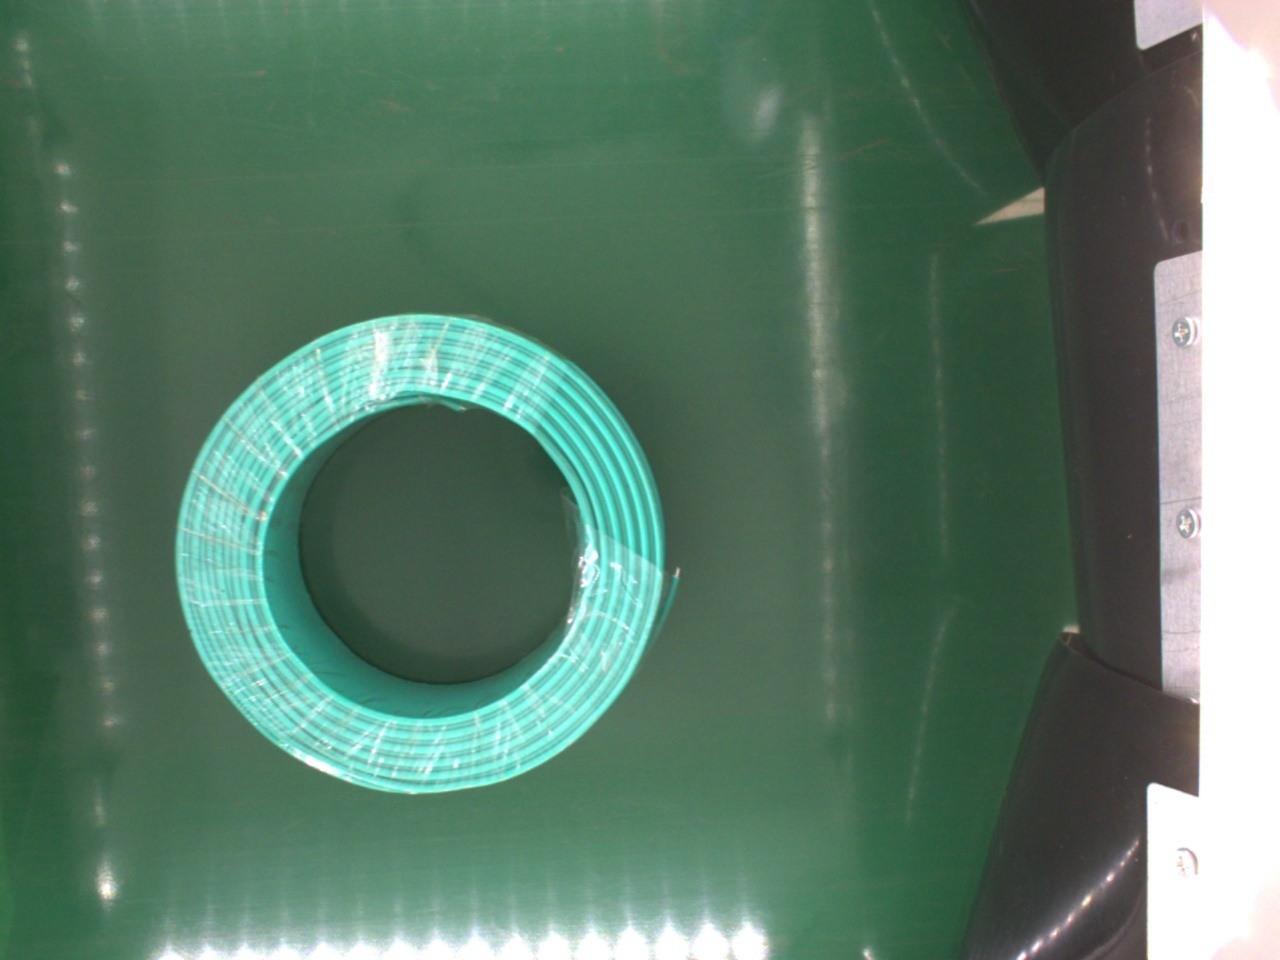green: (176, 310, 672, 799)
